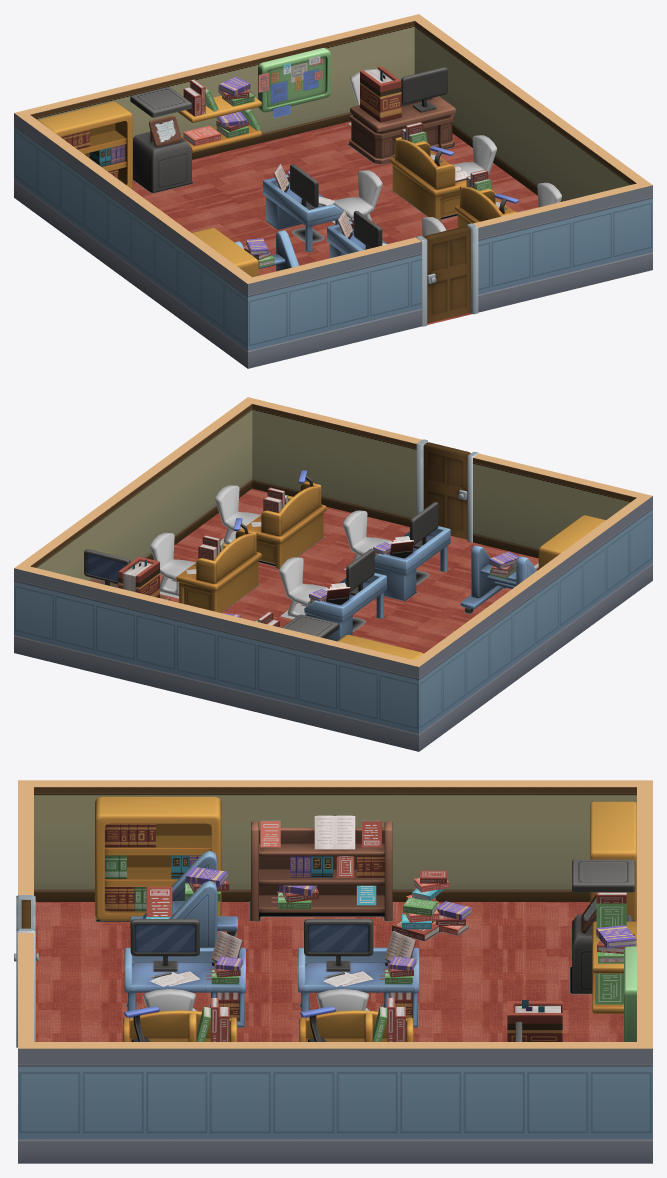
File: Library.FBX
3 renders of one model, top to bottom at view 1: azimuth 30°, elevation 25°; view 2: azimuth 150°, elevation 25°; view 3: azimuth 270°, elevation 25°, orthographic. The views are drawn at different scales.
Parts seen in each view (by area): view 1: Library_Item_Administrator, Z038, Z032, Z039, Z042, Library_Item_Desk, Library_Item_ComputerDesk, Library_Item_Showcase, Library_Item_Bookcase_004, Library_Item_Bookcase_03, Z054, Z050 (+39 smaller); view 2: Z013, Z01, Z004, Z010, Z007, Z033, Z040, Library_Item_Desk, Library_Item_Desk001, Z044, Library_Item_ComputerDesk001, Library_Item_ComputerDesk (+36 smaller); view 3: Z017, Z020, Z023, Z024, Z027, Z055, Library_Item_Bookcase_02, Library_Item_Bookcase_01, Library_Item_ComputerDesk001, Library_Item_ComputerDesk, Z058, Z059 (+47 smaller).
Boxes of the visible parts, x1,y1,x2,y2 form: Library_Item_Administrator: (349,66,456,163); Z038: (572,185,652,289); Z032: (491,205,571,309); Z039: (329,244,409,348); Z042: (248,264,328,368); Library_Item_Desk: (390,122,496,220); Library_Item_ComputerDesk: (263,164,382,251); Library_Item_Showcase: (130,87,191,192); Library_Item_Bookcase_004: (38,101,132,188); Library_Item_Bookcase_03: (178,76,261,152); Z054: (60,147,107,265); Z050: (107,182,154,299); Z013: (14,568,94,672); Z01: (338,647,418,751); Z004: (257,627,337,731); Z010: (95,588,175,692); Z007: (176,608,256,712); Z033: (323,421,403,525); Z040: (485,460,565,558); Library_Item_Desk: (150,518,261,612); Library_Item_Desk001: (215,470,326,568); Z044: (252,404,322,504); Library_Item_ComputerDesk001: (343,502,450,600); Library_Item_ComputerDesk: (279,548,386,641); Z017: (399,1048,525,1163); Z020: (272,1048,398,1163); Z023: (526,1048,652,1163); Z024: (145,1048,271,1163); Z027: (18,1048,144,1163); Z055: (399,787,525,901); Library_Item_Bookcase_02: (251,815,392,920); Library_Item_Bookcase_01: (95,796,221,920); Library_Item_ComputerDesk001: (124,919,245,1026); Library_Item_ComputerDesk: (298,919,419,1026); Z058: (526,787,636,901); Z059: (34,787,144,901).
Bounding box in the file's own units: 10 × 2.02 × 10.06.
